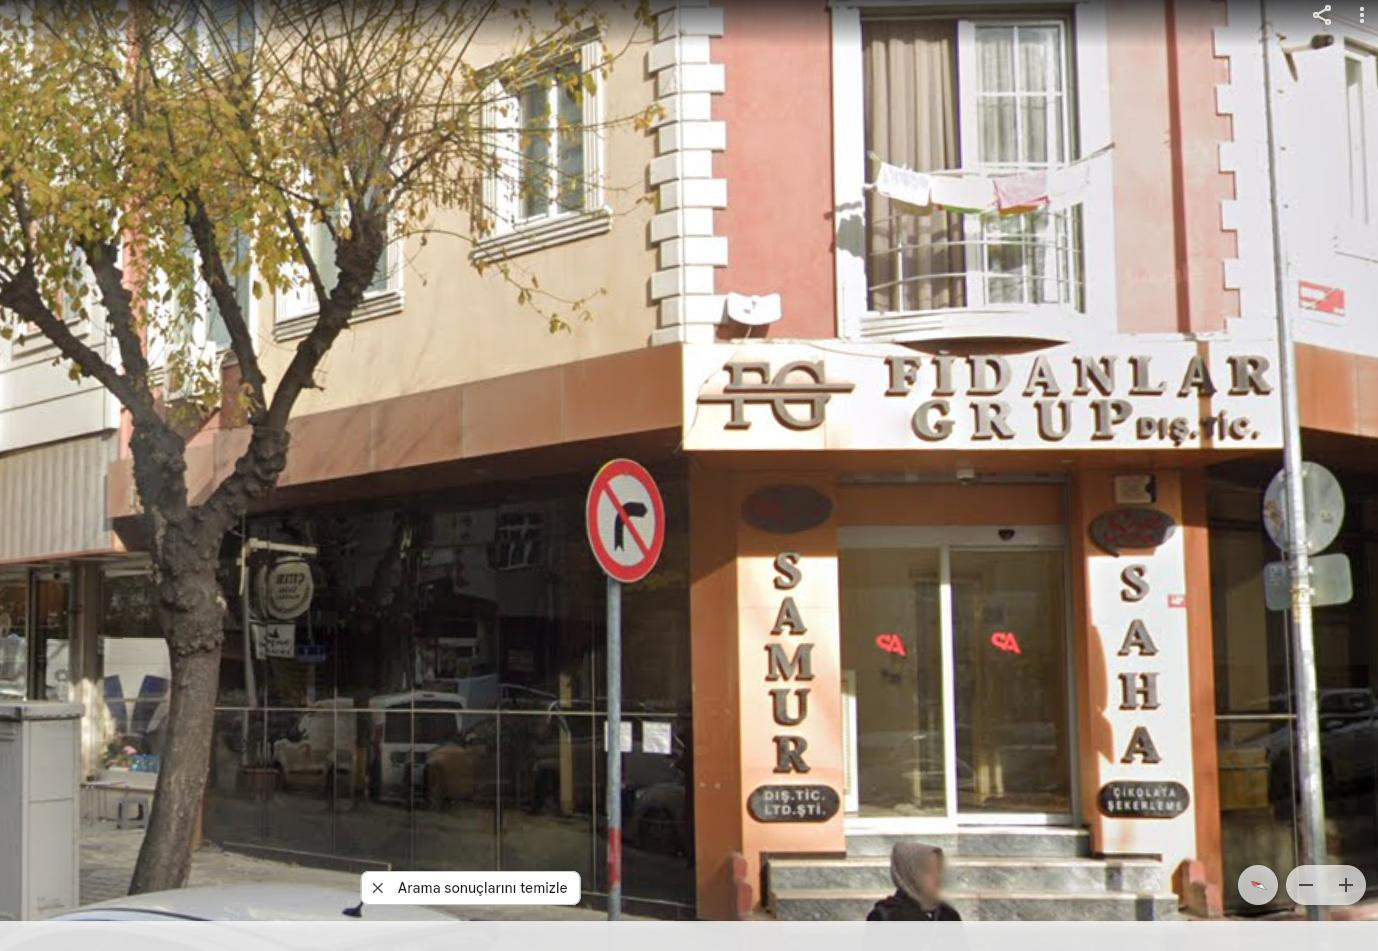rightturnsareforbidden: (585, 458, 667, 584)
